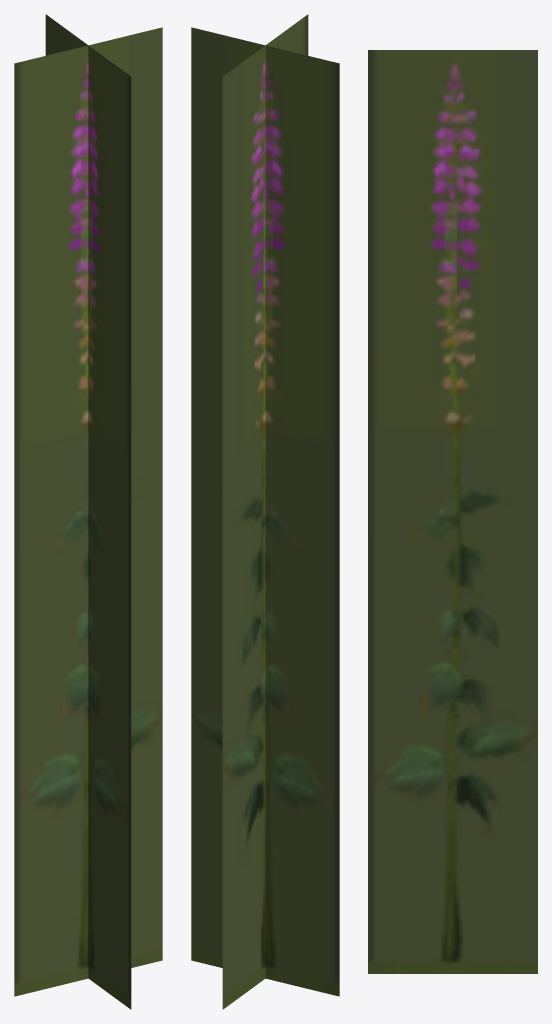
The model's file is Common_OBJ_Lavender_01.fbx.
3 views of the same model, side by side, from view 1: azimuth 30°, elevation 25°; view 2: azimuth 150°, elevation 25°; view 3: azimuth 270°, elevation 25° (orthographic).
Visible parts, largest first — view 1: Common_OBJ_Lavender_01; view 2: Common_OBJ_Lavender_01; view 3: Common_OBJ_Lavender_01.
Part boxes in pixels (bbox=[...]): Common_OBJ_Lavender_01: bbox=[14, 14, 162, 1009]; Common_OBJ_Lavender_01: bbox=[191, 14, 339, 1009]; Common_OBJ_Lavender_01: bbox=[368, 50, 537, 973].
Bounding box in the file's own units: 40 × 240 × 40.
Materials: 1 (1 with a texture image).
